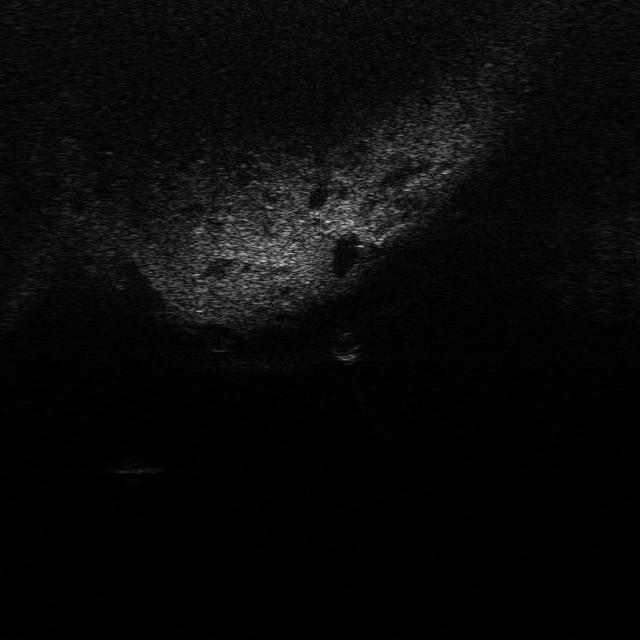ball: (324, 330, 366, 366)
cube: (104, 454, 172, 476)
